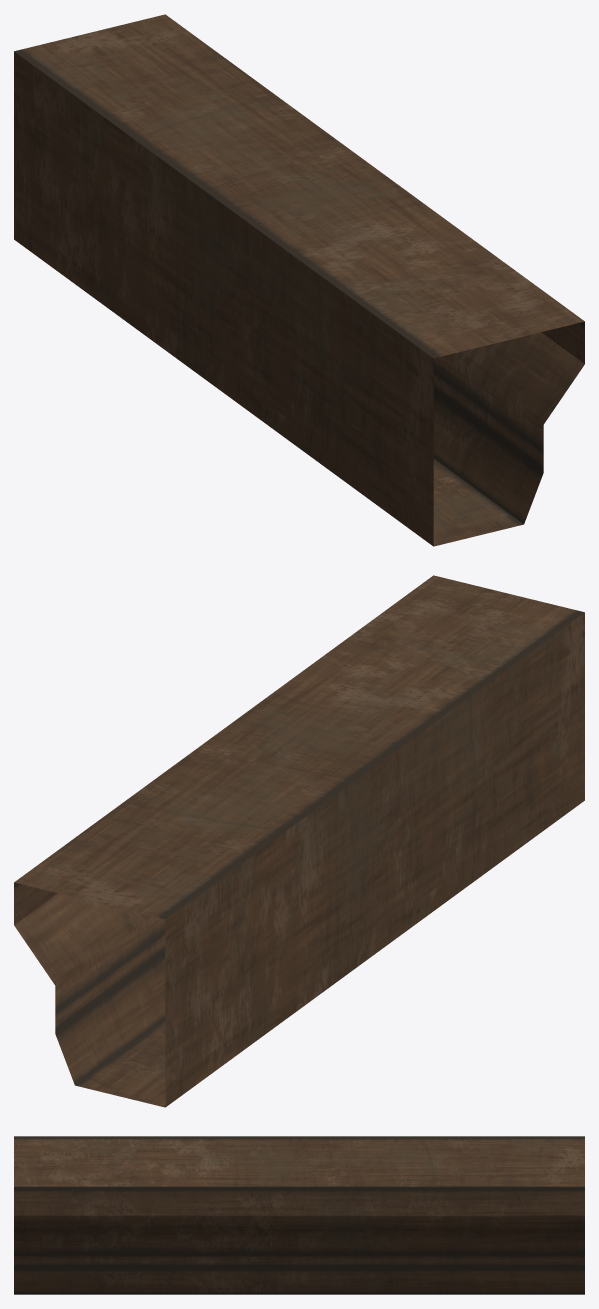
File: TowerOverhang_TopTrim_1x1.fbx
3 views of the same model, one above another, from view 1: azimuth 30°, elevation 25°; view 2: azimuth 150°, elevation 25°; view 3: azimuth 270°, elevation 25° (orthographic). The views are drawn at different scales.
Visible parts, largest first — view 1: polySurface101; view 2: polySurface101; view 3: polySurface101.
Boxes of the visible parts, <box> form: polySurface101: <box>14,14,584,546</box>; polySurface101: <box>14,575,584,1107</box>; polySurface101: <box>14,1136,584,1294</box>.
Bounding box in the file's own units: 20.84 × 24.75 × 100.
